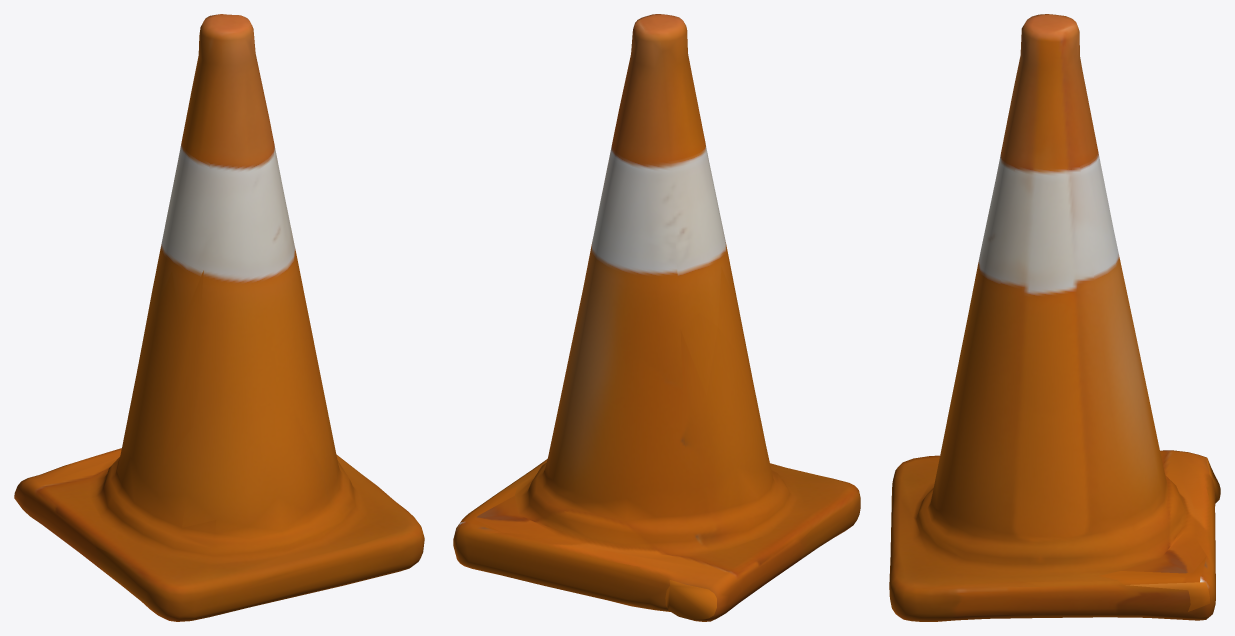
File: Barrier.fbx
3 renders of one model, left to right at view 1: azimuth 30°, elevation 25°; view 2: azimuth 150°, elevation 25°; view 3: azimuth 270°, elevation 25°, orthographic. The views are drawn at different scales.
Parts seen in each view (by area): view 1: model.001; view 2: model.001; view 3: model.001.
Part boxes in pixels (x1,y1,x2,y2): model.001: (14, 14, 424, 621); model.001: (453, 14, 860, 621); model.001: (889, 14, 1220, 621).
Bounding box in the file's own units: 32.49 × 60.18 × 33.38.
